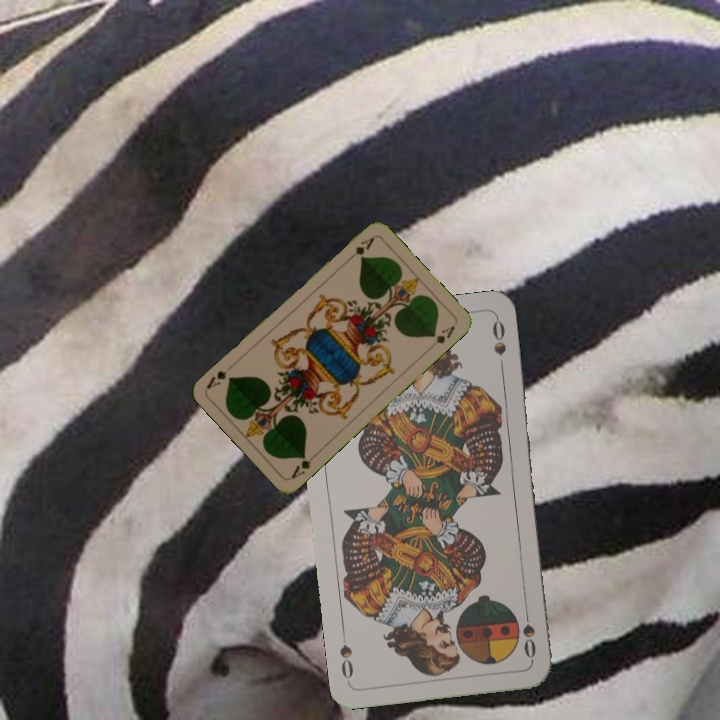GA: (287, 450, 320, 482), (343, 233, 377, 264)
SO: (519, 603, 538, 662)
